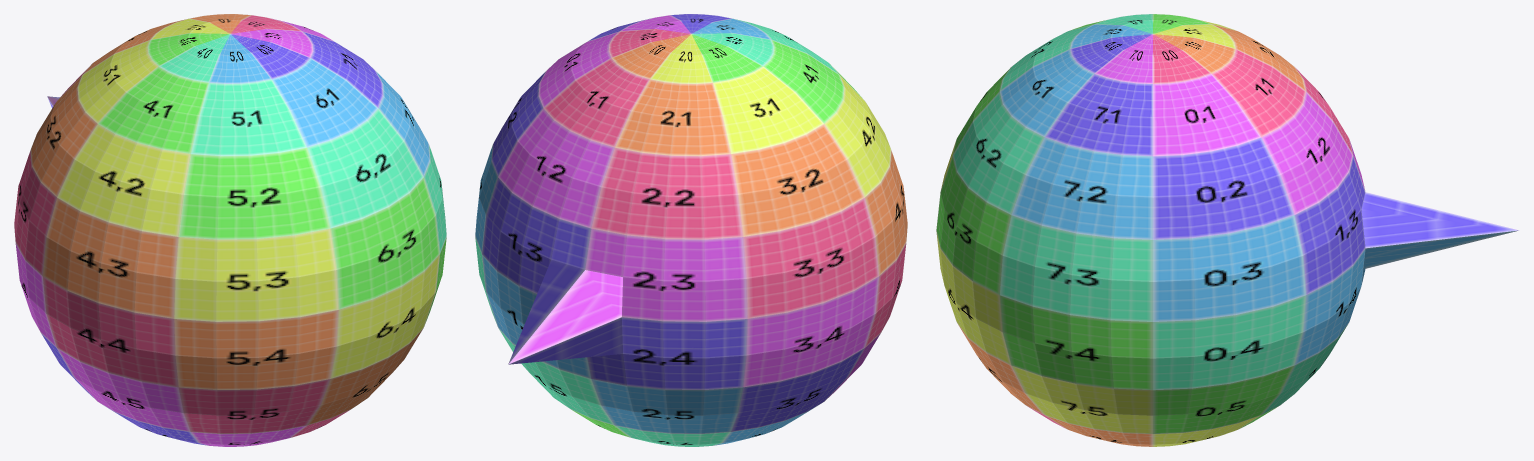
The model's file is player.gltf.
3 views of the same model, side by side, from view 1: azimuth 30°, elevation 25°; view 2: azimuth 150°, elevation 25°; view 3: azimuth 270°, elevation 25° (orthographic).
Visible parts, largest first — view 1: Sphere; view 2: Sphere; view 3: Sphere.
Part boxes in pixels (bbox=[...]): Sphere: bbox=[14, 14, 446, 446]; Sphere: bbox=[475, 14, 907, 446]; Sphere: bbox=[936, 14, 1519, 446].
Size of the model in its own units: 2 by 2 by 2.69.
1 material, 1 textured.
